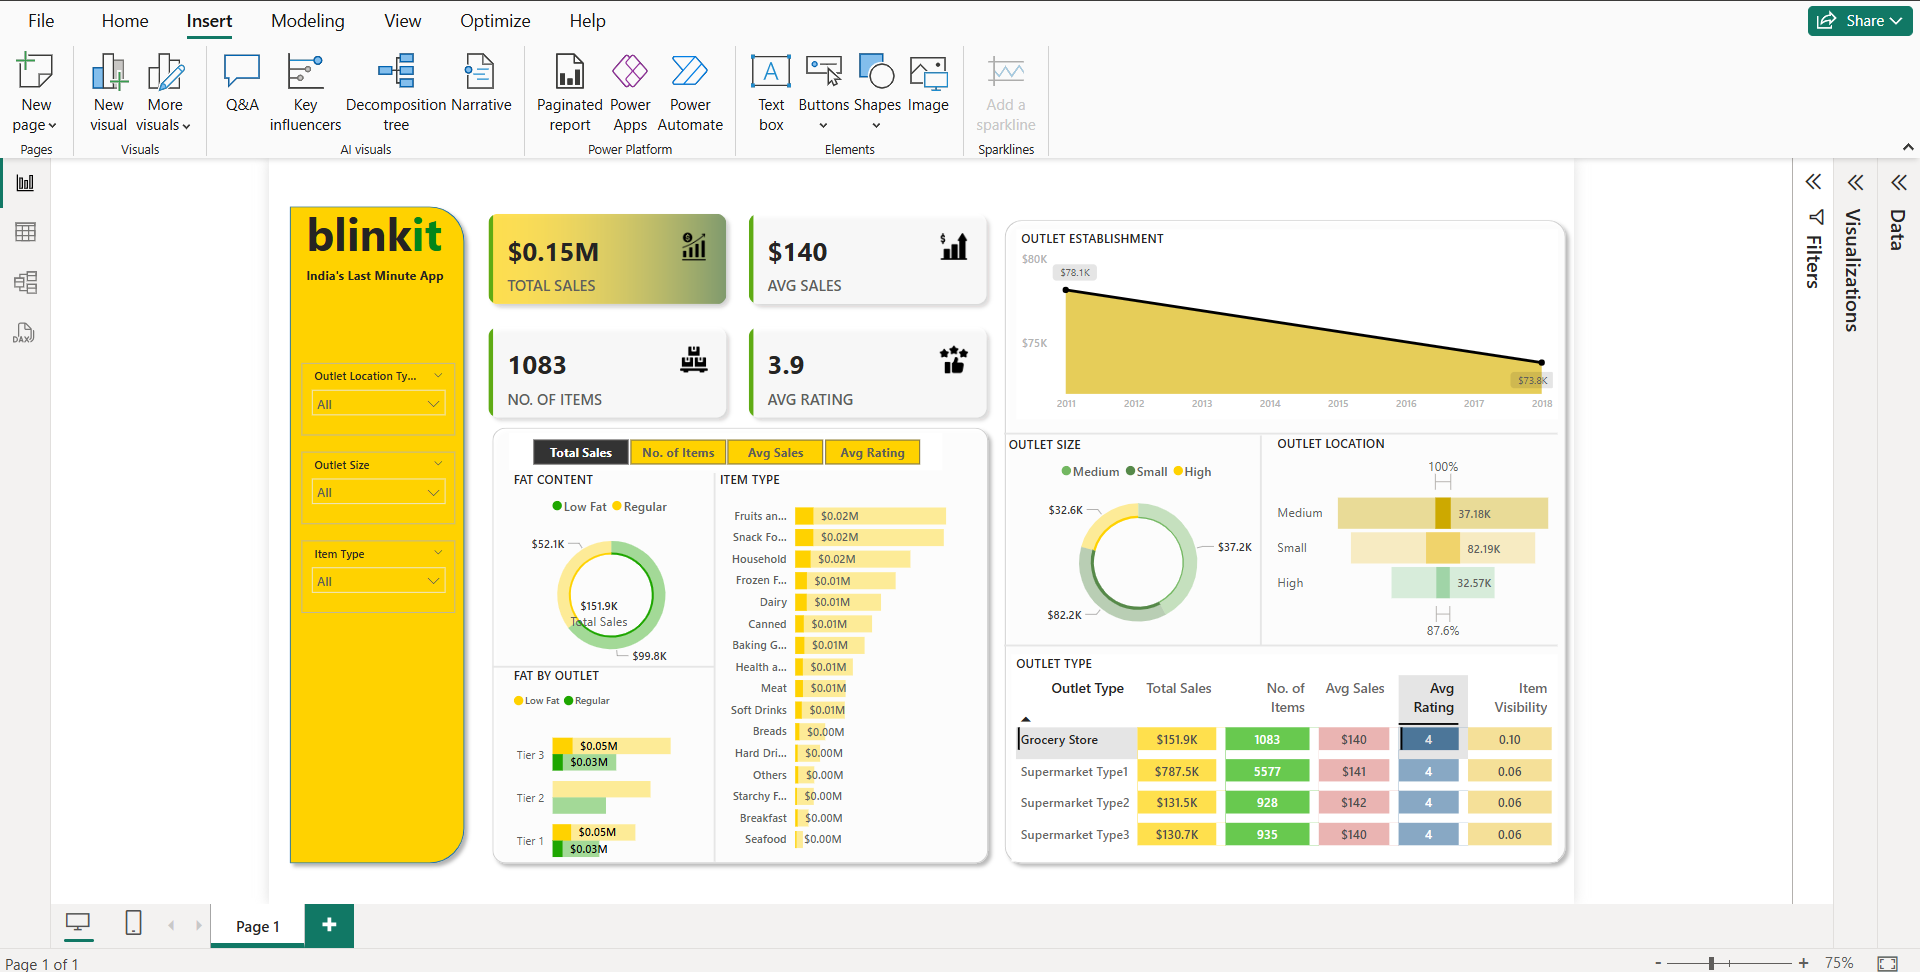

This screenshot's page, from the dashboard's own definition file:
{"tool":"powerbi","page":{"name":"Page 1","canvas":[1400,800],"ordinal":0},"visuals":[{"type":"shape","box":[13.4,42.9,205.1,722.5],"z":0},{"type":"textbox","box":[34.9,42.9,195.7,84.5],"z":1000},{"type":"textbox","box":[34.9,111.3,174.3,33.5],"z":2000},{"type":"cardVisual","fields":{"Data":["BlinkIT Grocery Data.Total Sales","BlinkIT Grocery Data.Avg Sales","BlinkIT Grocery Data.No. of Items","BlinkIT Grocery Data.Avg Rating"]},"box":[218.5,42.9,569.7,252],"z":3000},{"type":"shape","box":[230.6,280.2,549.6,485.3],"z":4000},{"type":"donutChart","title":" FAT CONTENT","fields":{"Category":["BlinkIT Grocery Data.Item Fat Content"],"Y":["BlinkIT Grocery Data.Total Sales"]},"box":[257.4,335.1,219.8,220],"z":4001},{"type":"slicer","fields":{"Values":["Metrics.Metrics"]},"box":[257.4,294.9,465.1,40.2],"z":4002},{"type":"cardVisual","fields":{"Data":["BlinkIT Grocery Data.Total Sales"]},"box":[296.2,446.4,115.3,85.8],"z":4003},{"type":"clusteredBarChart","title":"FAT BY OUTLET","fields":{"Y":["BlinkIT Grocery Data.Total Sales"],"Category":["BlinkIT Grocery Data.Outlet Location Type"],"Series":["BlinkIT Grocery Data.Item Fat Content"]},"box":[257.4,545.6,219.8,229.2],"z":4004},{"type":"shape","box":[239.9,411.5,237.3,268.1],"z":4005},{"type":"shape","box":[376.7,337.8,202.4,416.9],"z":4006},{"type":"barChart","title":"ITEM TYPE","fields":{"Category":["BlinkIT Grocery Data.Item Type"],"Y":["BlinkIT Grocery Data.Total Sales"]},"box":[478.6,335.1,290.9,419.6],"z":4007},{"type":"shape","box":[780.2,42.9,619.3,722.5],"z":4008},{"type":"lineChart","fields":{"Category":["BlinkIT Grocery Data.Outlet Establishment Year"],"Y":["BlinkIT Grocery Data.Total Sales"]},"box":[800.3,57.6,577.8,277.5],"z":4009}]}

Visuals, with their boxes on the page's 1400x800 design canvas (x1, y1, x2, y2). These are canvas units, not pixel positions in the 1920x972 screenshot, which may show the page scaled, cropped or inside an application window:
shape: (x1=13, y1=43, x2=218, y2=765)
textbox: (x1=35, y1=43, x2=231, y2=127)
textbox: (x1=35, y1=111, x2=209, y2=145)
cardVisual - BlinkIT Grocery Data.Total Sales x BlinkIT Grocery Data.Avg Sales: (x1=218, y1=43, x2=788, y2=295)
shape: (x1=231, y1=280, x2=780, y2=766)
" FAT CONTENT" donutChart: (x1=257, y1=335, x2=477, y2=555)
slicer - Metrics.Metrics: (x1=257, y1=295, x2=722, y2=335)
cardVisual - BlinkIT Grocery Data.Total Sales: (x1=296, y1=446, x2=412, y2=532)
"FAT BY OUTLET" clusteredBarChart: (x1=257, y1=546, x2=477, y2=775)
shape: (x1=240, y1=412, x2=477, y2=680)
shape: (x1=377, y1=338, x2=579, y2=755)
"ITEM TYPE" barChart: (x1=479, y1=335, x2=770, y2=755)
shape: (x1=780, y1=43, x2=1400, y2=765)
lineChart - BlinkIT Grocery Data.Outlet Establishment Year x BlinkIT Grocery Data.Total Sales: (x1=800, y1=58, x2=1378, y2=335)
